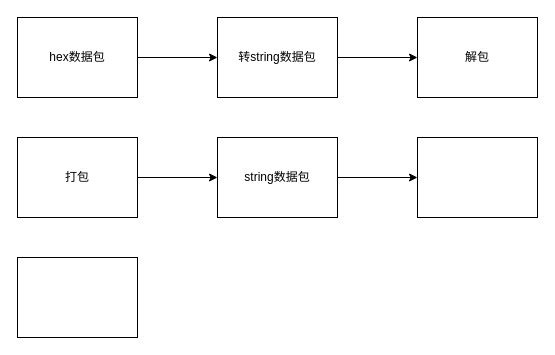
The diagram is 555 pixels wide and 355 high, and some of its shapes have lost their labels. The shapes that lost their labels are listed below. From the top down, each one's box as (x1, y1, x2, y2) in pixels, then its label:
(416, 136, 538, 218): 转hex数据包
(16, 256, 138, 338): 否决
